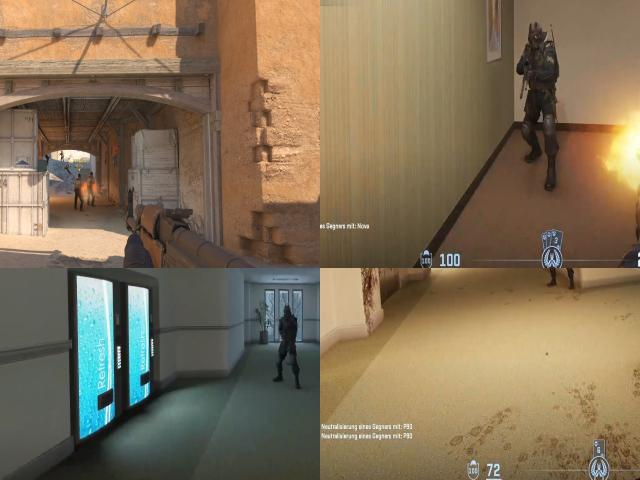CT: (523, 18, 557, 118), (273, 304, 305, 383), (528, 20, 547, 53), (60, 151, 64, 161), (45, 155, 49, 165)
CT-Head: (280, 303, 296, 323), (61, 150, 63, 154)
T: (74, 173, 83, 211), (87, 172, 95, 206)
T-Head: (89, 170, 94, 177), (77, 173, 81, 179)
